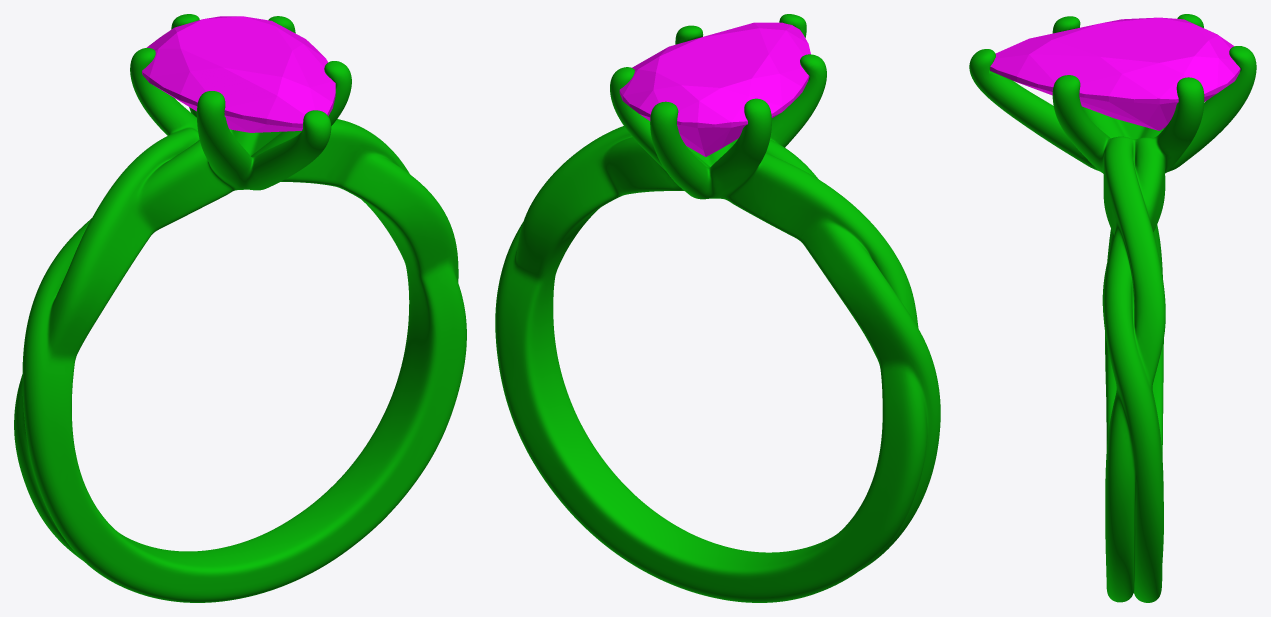
The model's file is BE1M56D_PE_200ct_RENDER.glb.
The picture shows the model from 3 angles, left to right: view 1: azimuth 30°, elevation 25°; view 2: azimuth 150°, elevation 25°; view 3: azimuth 270°, elevation 25°; orthographic projection. The views are drawn at different scales.
Parts seen in each view (by area): view 1: Metal 01, CS_Diamond_Pear; view 2: Metal 01, CS_Diamond_Pear; view 3: Metal 01, CS_Diamond_Pear.
Boxes of the visible parts, left/top/right/bottom form: Metal 01: left=14, top=14, right=466, bottom=602; CS_Diamond_Pear: left=142, top=16, right=335, bottom=132; Metal 01: left=495, top=14, right=940, bottom=602; CS_Diamond_Pear: left=619, top=22, right=810, bottom=156; Metal 01: left=969, top=14, right=1256, bottom=602; CS_Diamond_Pear: left=990, top=17, right=1240, bottom=130.
Size of the model in its own units: 20.33 by 24.02 by 11.62.
